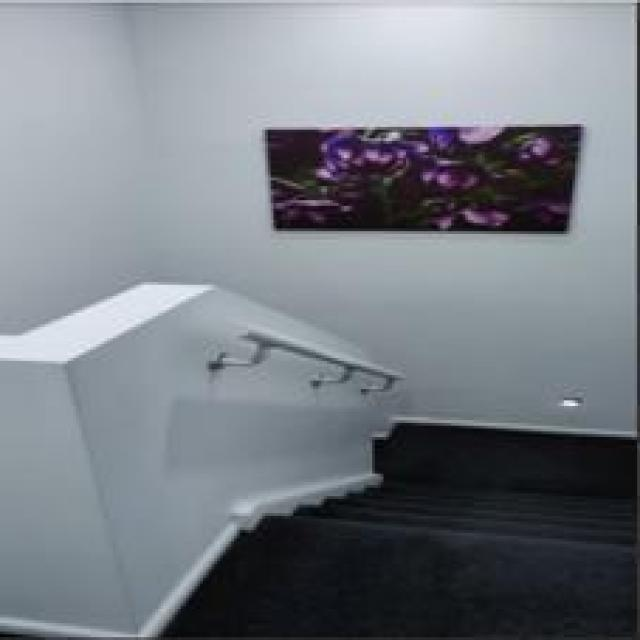downstair: (243, 407, 579, 604)
